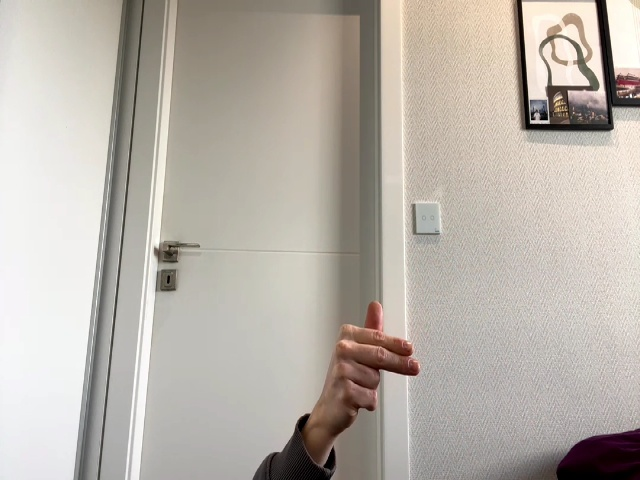N: (324, 301, 421, 432)
